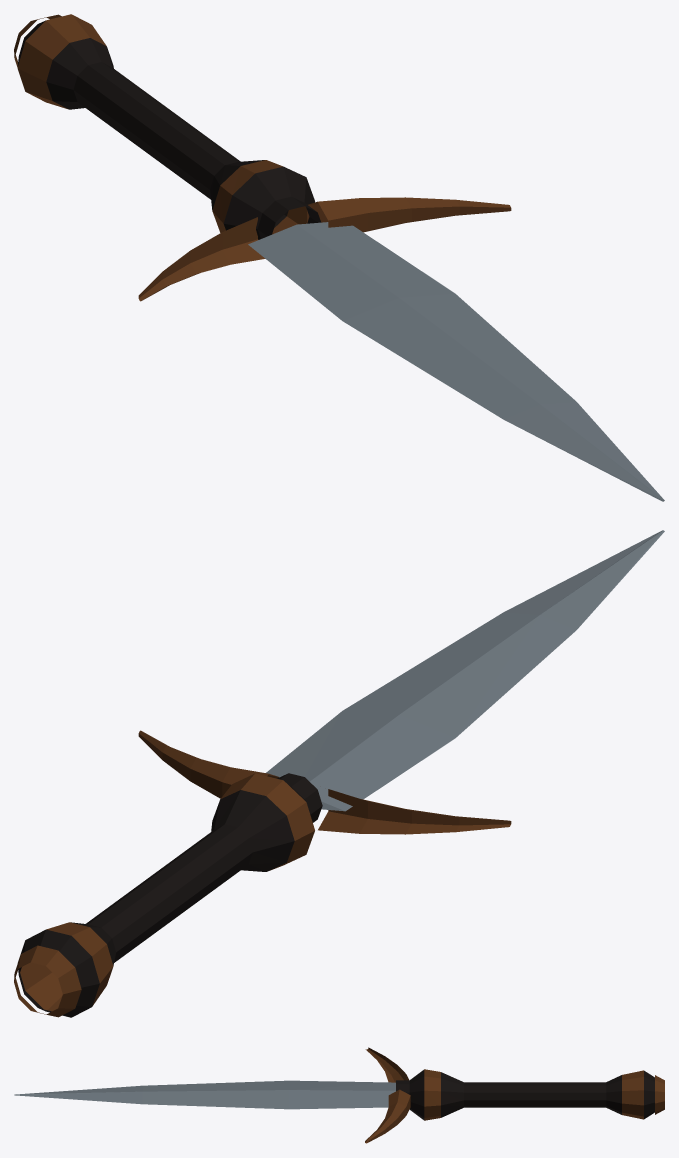
The model's file is sealbreaker_LOD1.obj.
The picture shows the model from 3 angles, top to bottom: view 1: azimuth 30°, elevation 25°; view 2: azimuth 150°, elevation 25°; view 3: azimuth 270°, elevation 25°; orthographic projection. The views are drawn at different scales.
Size of the model in its own units: 0.242 by 0.0533 by 0.709.
